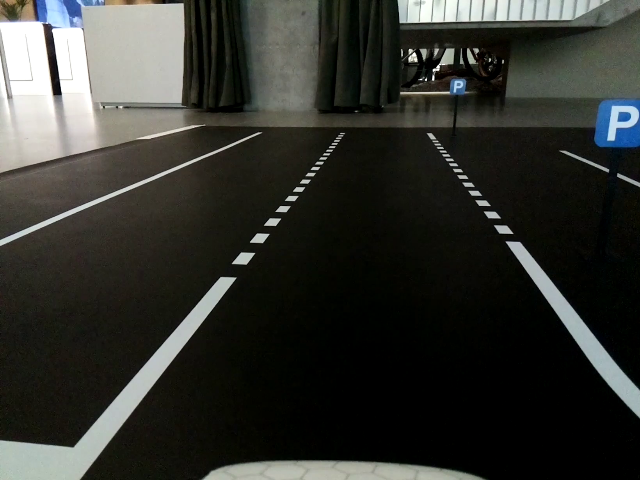park: (596, 100, 640, 146), (449, 79, 465, 95)
